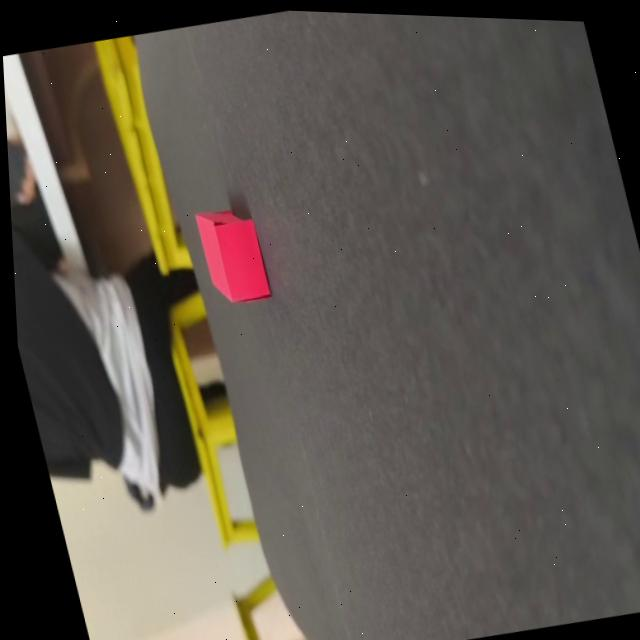red block: (192, 202, 272, 310)
